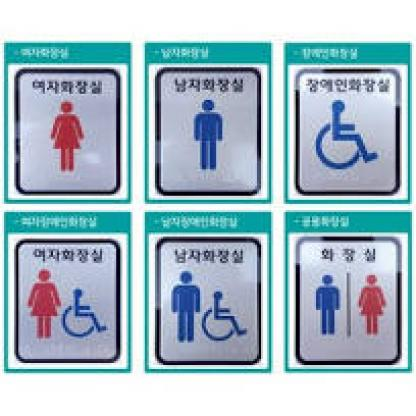toilet: (170, 271, 251, 347), (26, 270, 110, 343), (314, 270, 388, 342), (314, 97, 382, 172), (46, 97, 89, 171), (189, 98, 230, 172)
